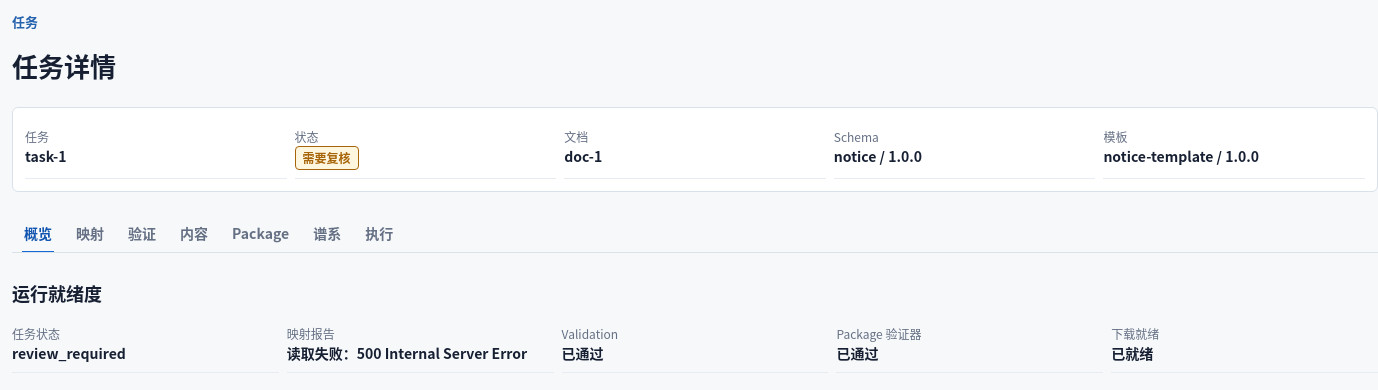
it: TaskDetailPage › shows the report failure instead of an empty state for 500 Internal Server Error
Expected: the text "task-1" is shown, top-left (25, 146), bottom-right (66, 166)
Click the tab "映射": (90, 234) top-left (64, 216), bottom-right (116, 252)
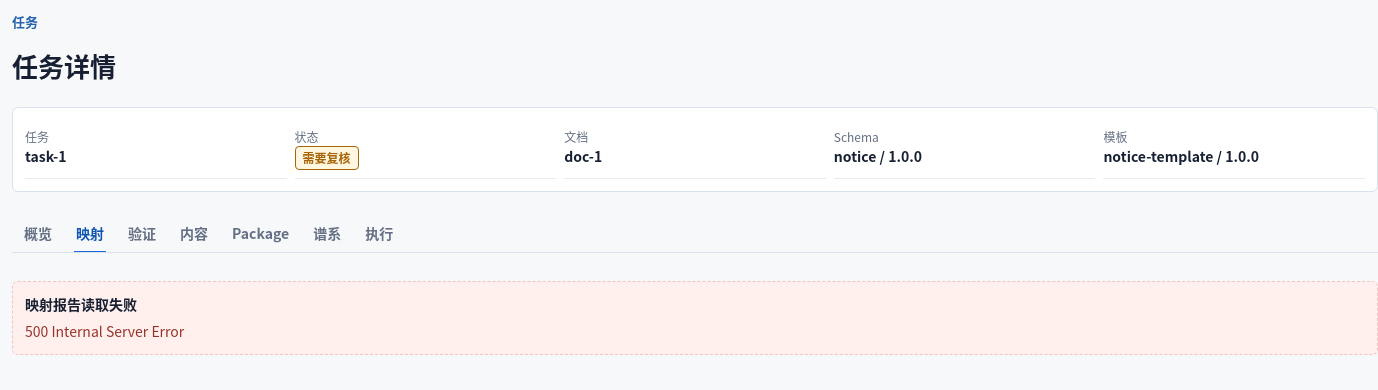
Expected: the text "500 Internal Server Error" is shown, top-left (25, 321), bottom-right (184, 341)
Now the text "映射报告读取失败" is shown, box top-left (25, 294), bottom-right (137, 314)
